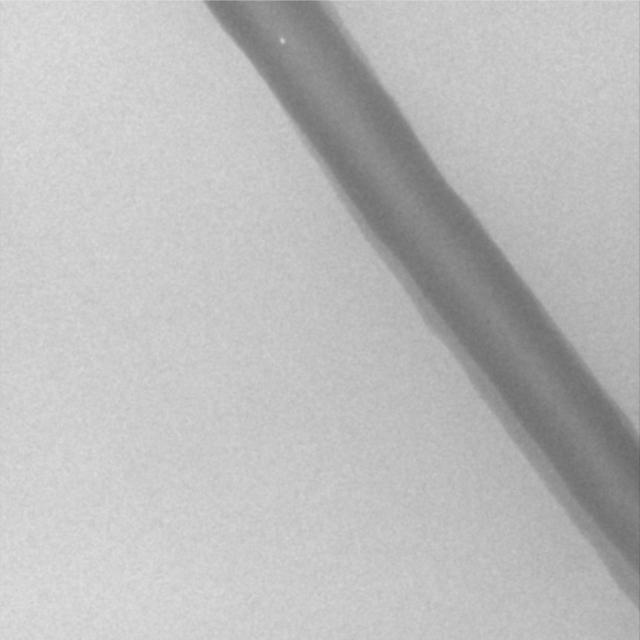air hole: (278, 37, 285, 46)
